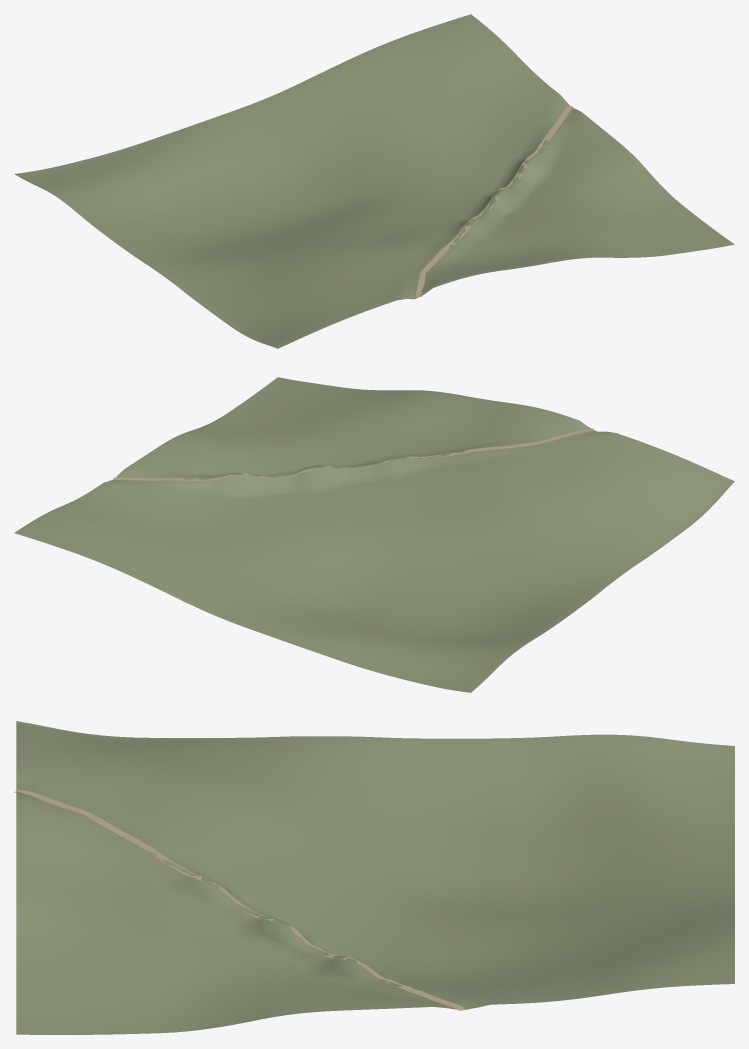
The picture shows the model from 3 angles, top to bottom: view 1: azimuth 30°, elevation 25°; view 2: azimuth 150°, elevation 25°; view 3: azimuth 270°, elevation 25°; orthographic projection. The views are drawn at different scales.
Parts seen in each view (by area): view 1: ground, path; view 2: ground, path; view 3: ground, path.
Boxes of the visible parts, x1,y1,x2,y2 form: ground: (14,14,734,348); path: (415,106,573,296); ground: (14,377,734,692); path: (113,428,594,481); ground: (16,721,734,1034); path: (14,789,464,1010).
Size of the model in its own units: 251 by 30.7 by 251.
